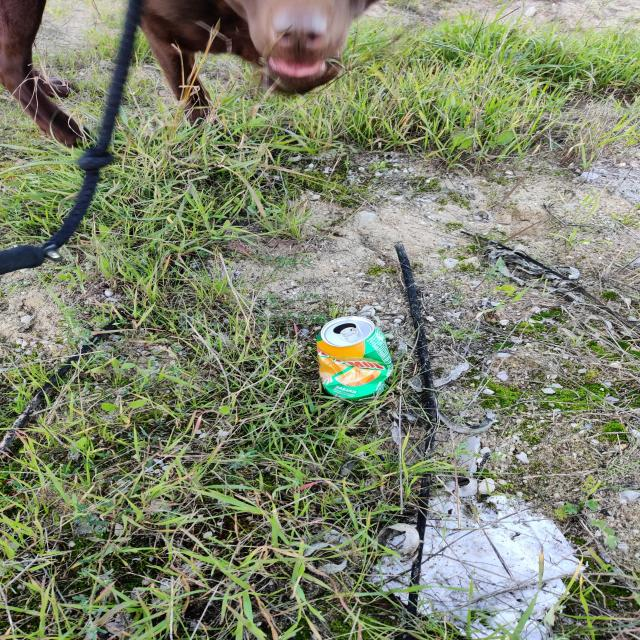litter: (288, 302, 405, 418)
